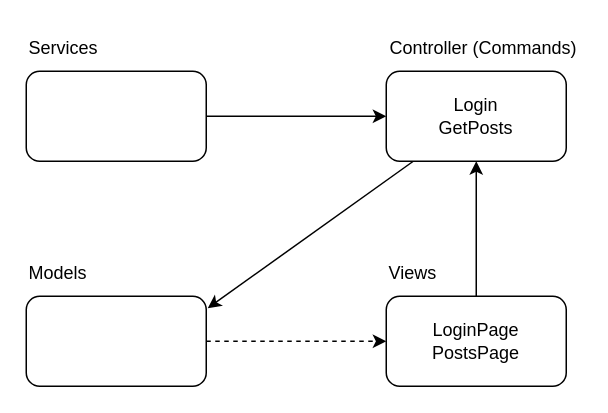
Image size: 608x413. Some labels were removed from this diagram. The centre of each missing label's shape, as x and y in pixels:
"External Login() External getPosts()" goes at [115,115].
"Users Posts" goes at [115,340].
